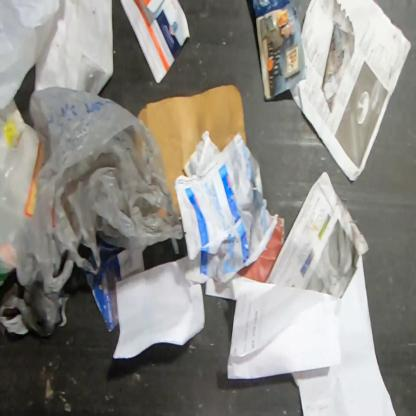cardboard: (136, 82, 248, 215)
soft_plastic: (0, 86, 185, 338), (0, 115, 49, 292), (0, 0, 63, 114)
